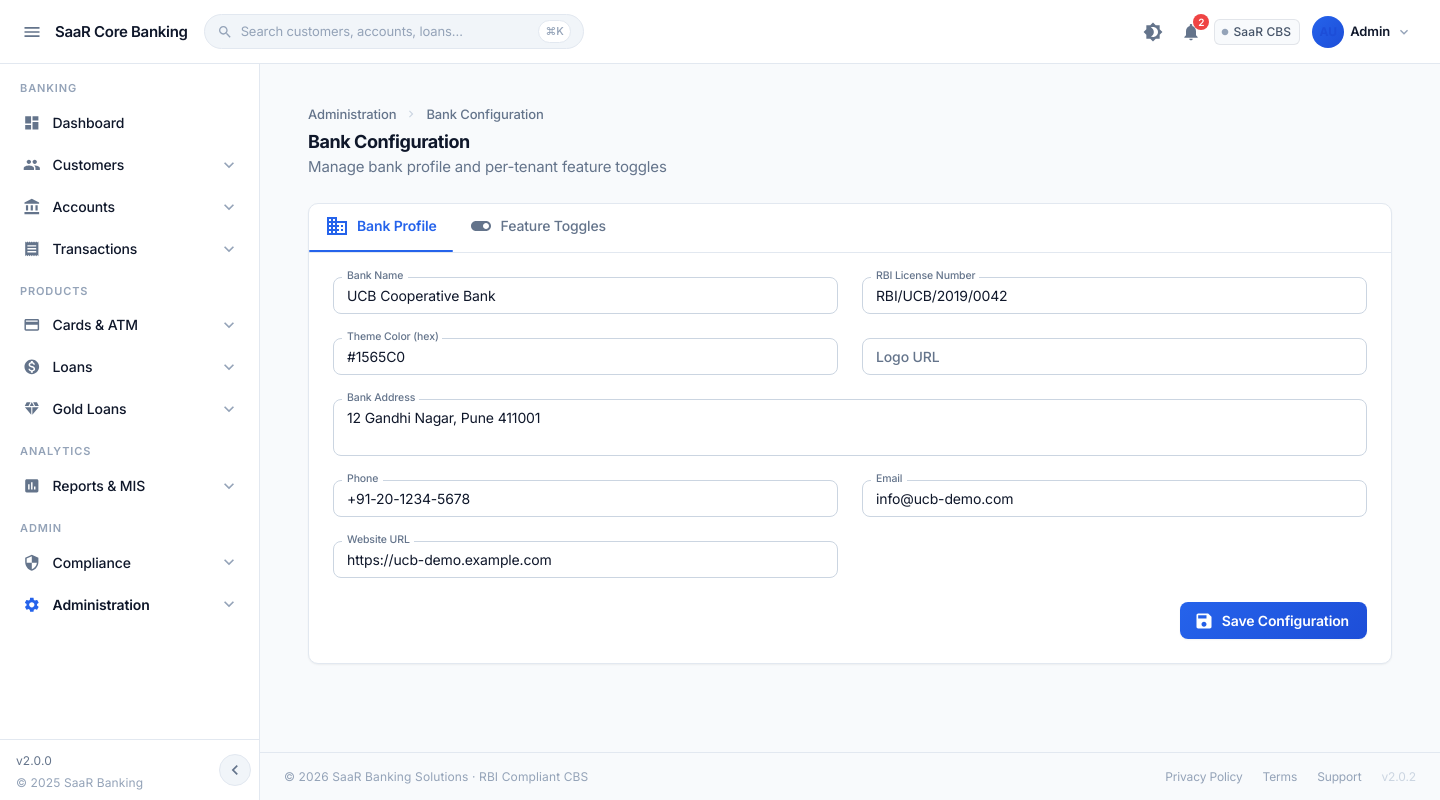
Test: [REGRESSION] Bank Configuration — Bank Profile Tab › shows success alert after saving bank profile
Click the button with aria-label "Save bank configuration".
click(1274, 621)  # box [1180,602,1367,639]
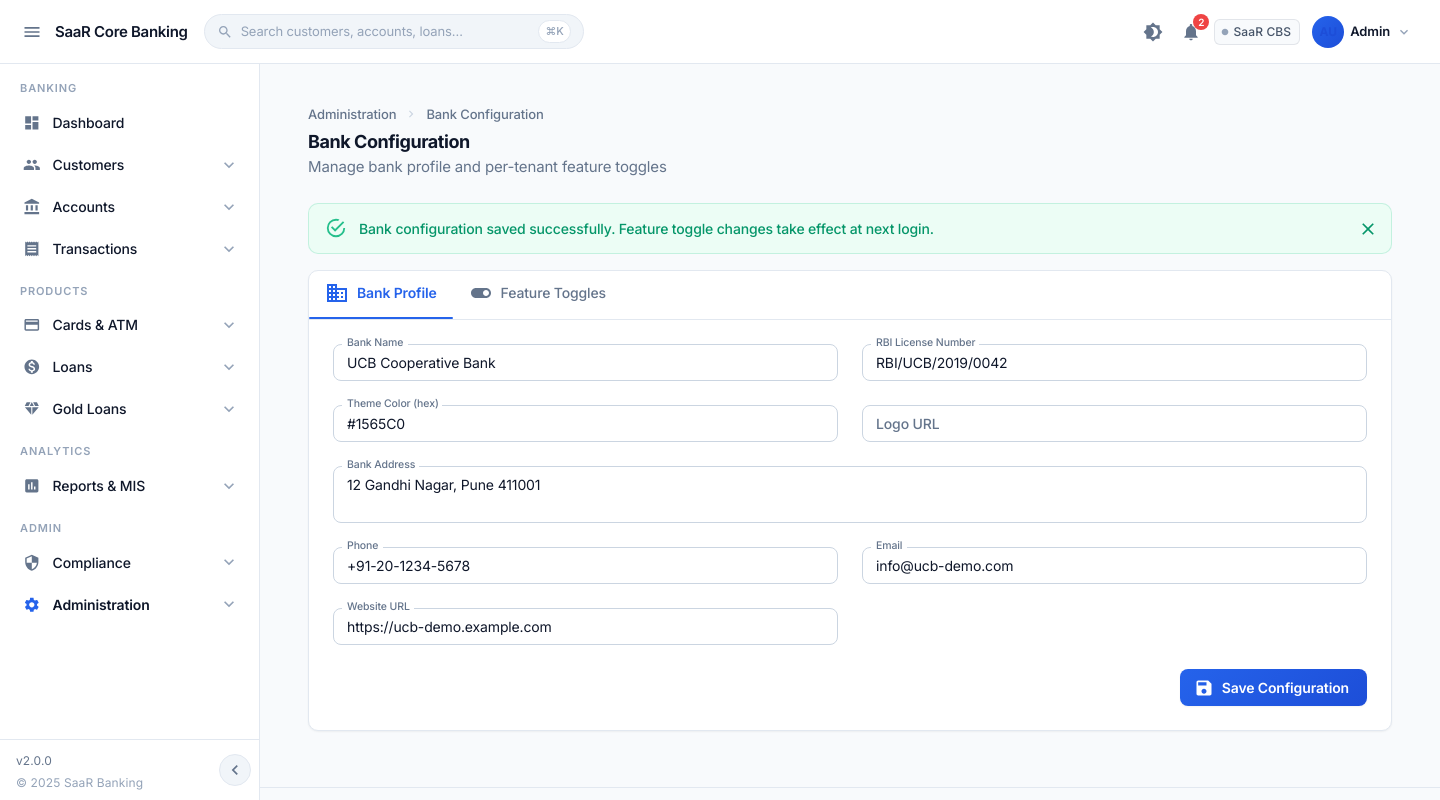
Result: the text "saved successfully" is shown at [359,220,934,237]
